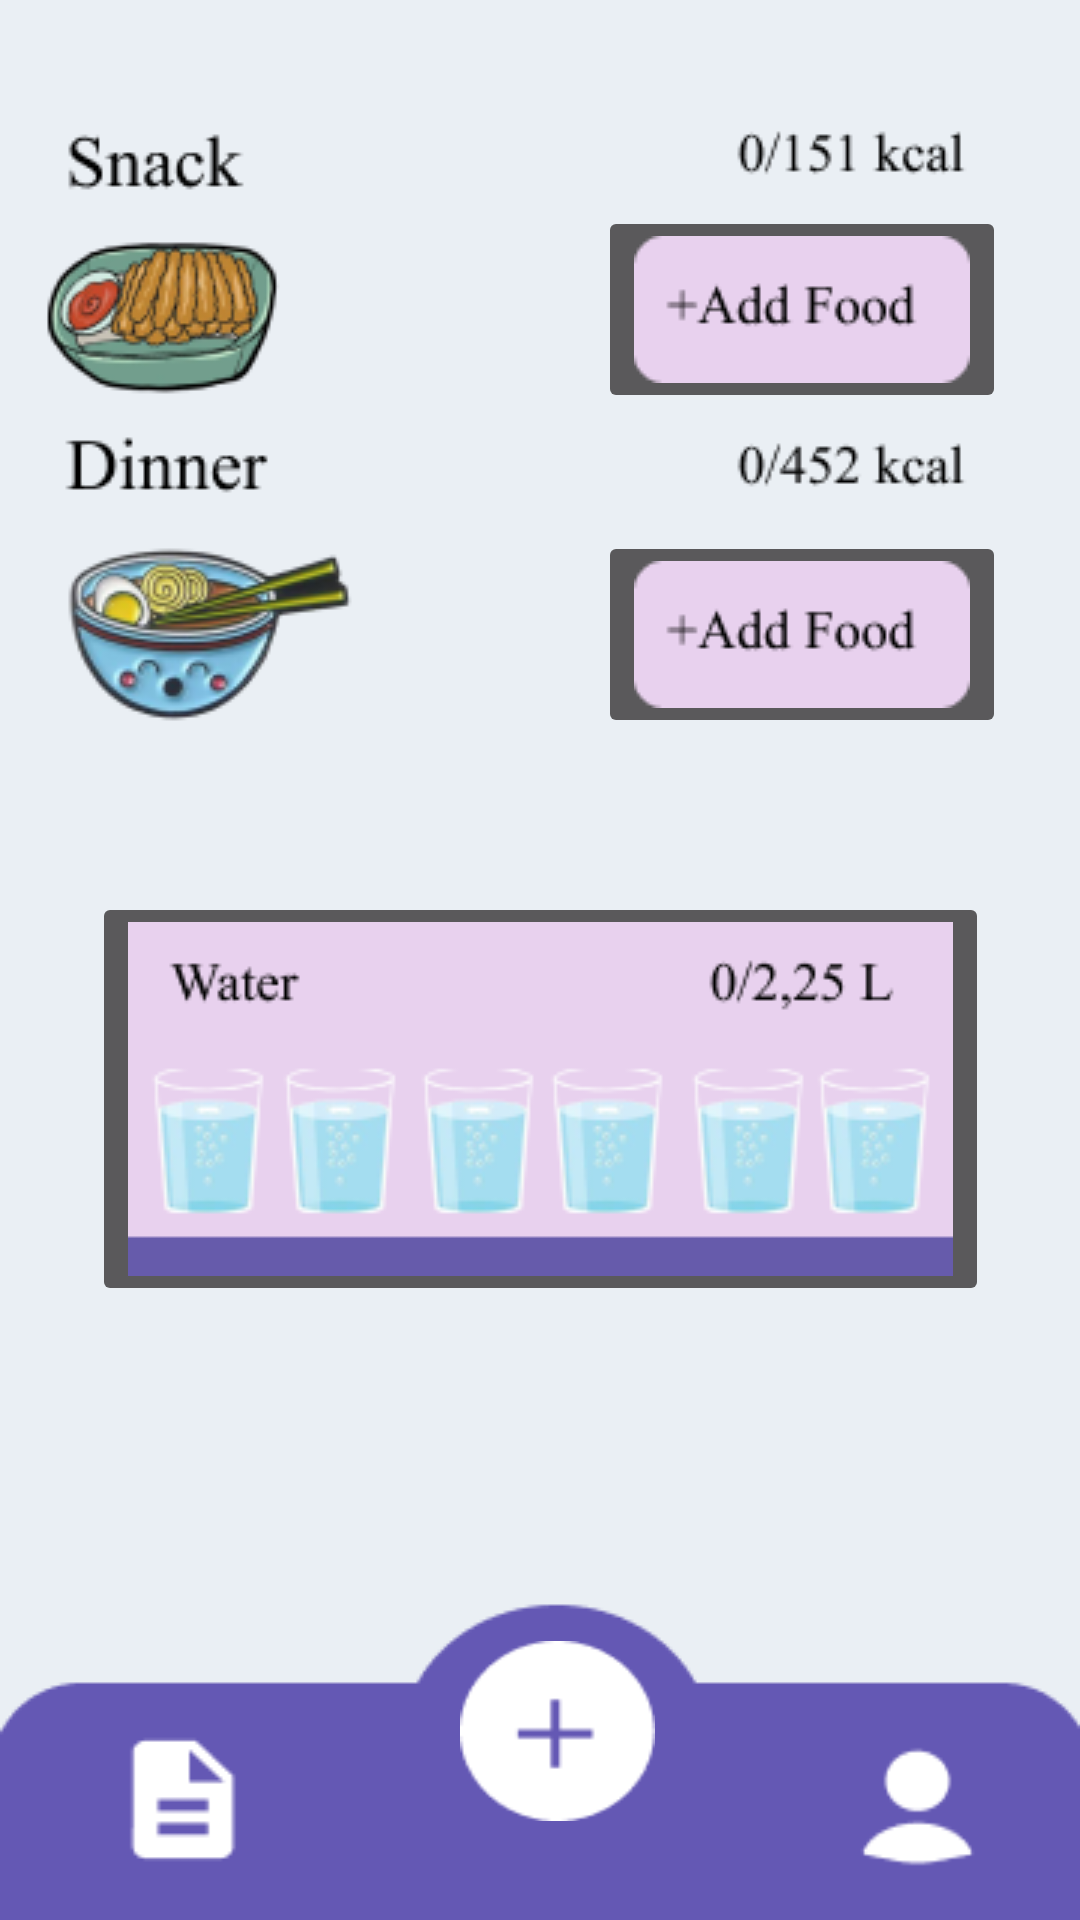

Named icons in this screenshot (1080*1920) and their centers, (x,y):
description: (182,1799)
plus: (557,1731)
user: (917,1807)
